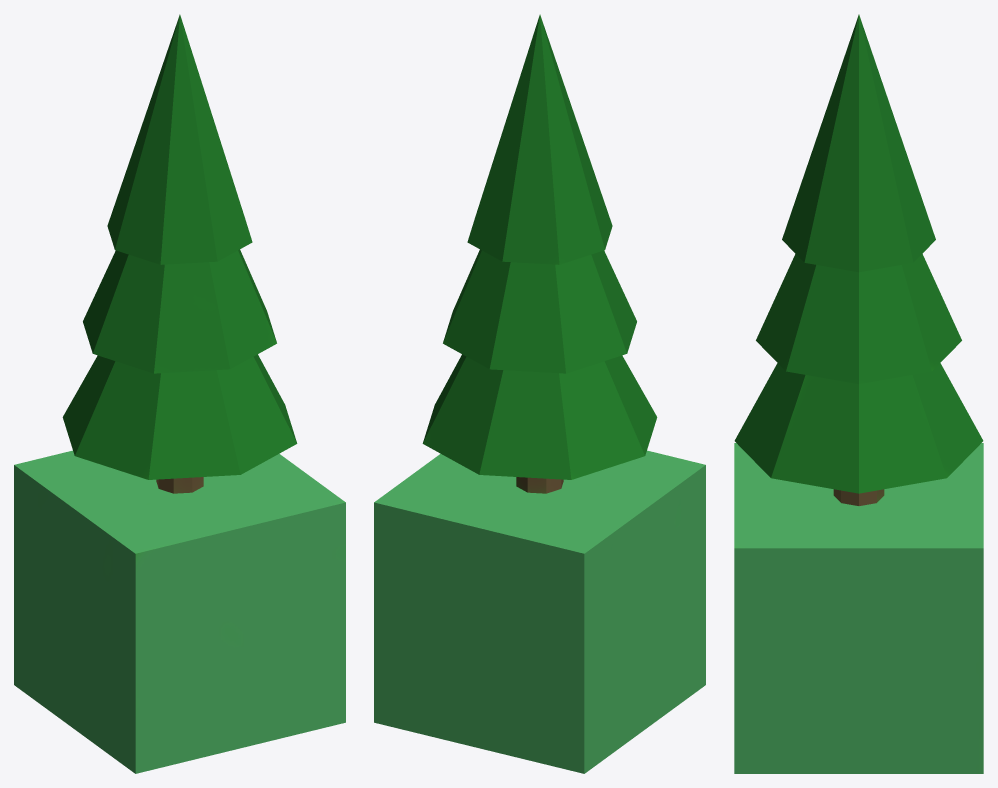
File: Tree.fbx
3 renders of one model, left to right at view 1: azimuth 30°, elevation 25°; view 2: azimuth 150°, elevation 25°; view 3: azimuth 270°, elevation 25°, orthographic. The views are drawn at different scales.
Parts seen in each view (by area): view 1: Cube; view 2: Cube; view 3: Cube.
Boxes of the visible parts, x1,y1,x2,y2 form: Cube: [14, 14, 345, 773]; Cube: [374, 14, 705, 773]; Cube: [734, 14, 983, 773].
Size of the model in its own units: 1 by 3.13 by 1.
Materials: 1 (1 with a texture image).
